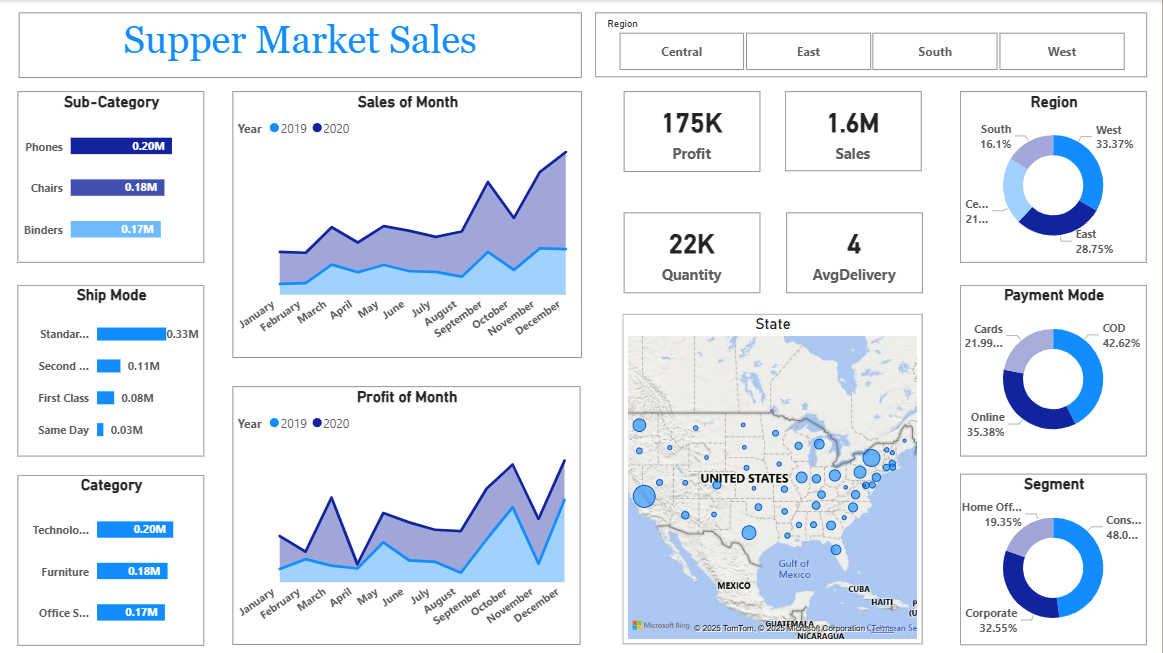

The page's visual inventory and layout, read from the dashboard file:
{"tool":"powerbi","page":{"name":"Page 1","canvas":[1280,720],"ordinal":0},"visuals":[{"type":"clusteredBarChart","title":" Sub-Category","fields":{"Category":["SuperStore_Sales_Dataset.Sub-Category"],"Y":["Sum(SuperStore_Sales_Dataset.Sales)"]},"box":[18.6,100.1,205.9,188.8],"z":0},{"type":"clusteredBarChart","title":" Category","fields":{"Y":["Sum(SuperStore_Sales_Dataset.Sales)"],"Category":["SuperStore_Sales_Dataset.Category"]},"box":[19.2,522.8,205.8,188],"z":1000},{"type":"stackedAreaChart","title":"Sales of Month ","fields":{"Category":["SuperStore_Sales_Dataset.Order Date.Variation.Date Hierarchy.Month","SuperStore_Sales_Dataset.Order Date.Variation.Date Hierarchy.Day"],"Y":["Sum(SuperStore_Sales_Dataset.Sales)"],"Series":["SuperStore_Sales_Dataset.Order Date.Variation.Date Hierarchy.Year"]},"box":[256.7,100,385,293.3],"z":2000},{"type":"stackedAreaChart","title":"Profit of Month ","fields":{"Category":["SuperStore_Sales_Dataset.Order Date.Variation.Date Hierarchy.Month","SuperStore_Sales_Dataset.Order Date.Variation.Date Hierarchy.Day"],"Series":["SuperStore_Sales_Dataset.Order Date.Variation.Date Hierarchy.Year"],"Y":["Sum(SuperStore_Sales_Dataset.Profit)"]},"box":[256.7,425,383.3,285],"z":3000},{"type":"clusteredBarChart","title":" Ship Mode","fields":{"Y":["Sum(SuperStore_Sales_Dataset.Sales)"],"Category":["SuperStore_Sales_Dataset.Ship Mode"]},"box":[18.6,313.2,205.9,188.8],"z":4000},{"type":"donutChart","title":" Segment","fields":{"Category":["SuperStore_Sales_Dataset.Segment"],"Y":["Sum(SuperStore_Sales_Dataset.Sales)"]},"box":[1056.9,522,205.9,188.8],"z":5000},{"type":"donutChart","title":"Payment Mode","fields":{"Category":["SuperStore_Sales_Dataset.Payment Mode"],"Y":["Sum(SuperStore_Sales_Dataset.Sales)"]},"box":[1056.9,313.2,205.9,188.8],"z":6000},{"type":"donutChart","title":"Region","fields":{"Category":["SuperStore_Sales_Dataset.Region"],"Y":["Sum(SuperStore_Sales_Dataset.Sales)"]},"box":[1056.9,100.1,205.9,188.8],"z":7000},{"type":"card","fields":{"Values":["Sum(SuperStore_Sales_Dataset.Quantity)"]},"box":[686.5,234.5,150.2,88.7],"z":8000},{"type":"card","fields":{"Values":["Sum(SuperStore_Sales_Dataset.Profit)"]},"box":[686.5,100.1,150.2,88.7],"z":9000},{"type":"card","fields":{"Values":["Sum(SuperStore_Sales_Dataset.Sales)"]},"box":[865,100,150,88.3],"z":10000},{"type":"card","fields":{"Values":["Avg(SuperStore_Sales_Dataset.AvgDelivery)"]},"box":[865.3,234.5,150.2,88.7],"z":11000},{"type":"slicer","fields":{"Values":["SuperStore_Sales_Dataset.Region"]},"box":[655,14.3,607.8,71.5],"z":12000},{"type":"map","title":"State","fields":{"Category":["SuperStore_Sales_Dataset.State"],"Size":["Sum(SuperStore_Sales_Dataset.Sales)"]},"box":[686,346,330,364],"z":13000},{"type":"textbox","box":[20,14,620,72],"z":14000}]}

Visuals, with their boxes in screenshot pixels (x1, y1, x2, y2), scaled from the page's 1280x720 canvas onto the 1163x653 screenshot:
" Sub-Category" clusteredBarChart: [x1=17, y1=91, x2=204, y2=262]
" Category" clusteredBarChart: [x1=17, y1=474, x2=204, y2=645]
"Sales of Month " stackedAreaChart: [x1=233, y1=91, x2=583, y2=357]
"Profit of Month " stackedAreaChart: [x1=233, y1=385, x2=582, y2=644]
" Ship Mode" clusteredBarChart: [x1=17, y1=284, x2=204, y2=455]
" Segment" donutChart: [x1=960, y1=473, x2=1147, y2=645]
"Payment Mode" donutChart: [x1=960, y1=284, x2=1147, y2=455]
"Region" donutChart: [x1=960, y1=91, x2=1147, y2=262]
card - Sum(SuperStore_Sales_Dataset.Quantity): [x1=624, y1=213, x2=760, y2=293]
card - Sum(SuperStore_Sales_Dataset.Profit): [x1=624, y1=91, x2=760, y2=171]
card - Sum(SuperStore_Sales_Dataset.Sales): [x1=786, y1=91, x2=922, y2=171]
card - Avg(SuperStore_Sales_Dataset.AvgDelivery): [x1=786, y1=213, x2=923, y2=293]
slicer - SuperStore_Sales_Dataset.Region: [x1=595, y1=13, x2=1147, y2=78]
"State" map: [x1=623, y1=314, x2=923, y2=644]
textbox: [x1=18, y1=13, x2=582, y2=78]
